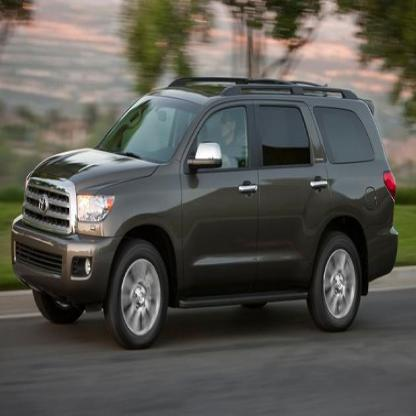Vehicle: (11, 76, 400, 355)
